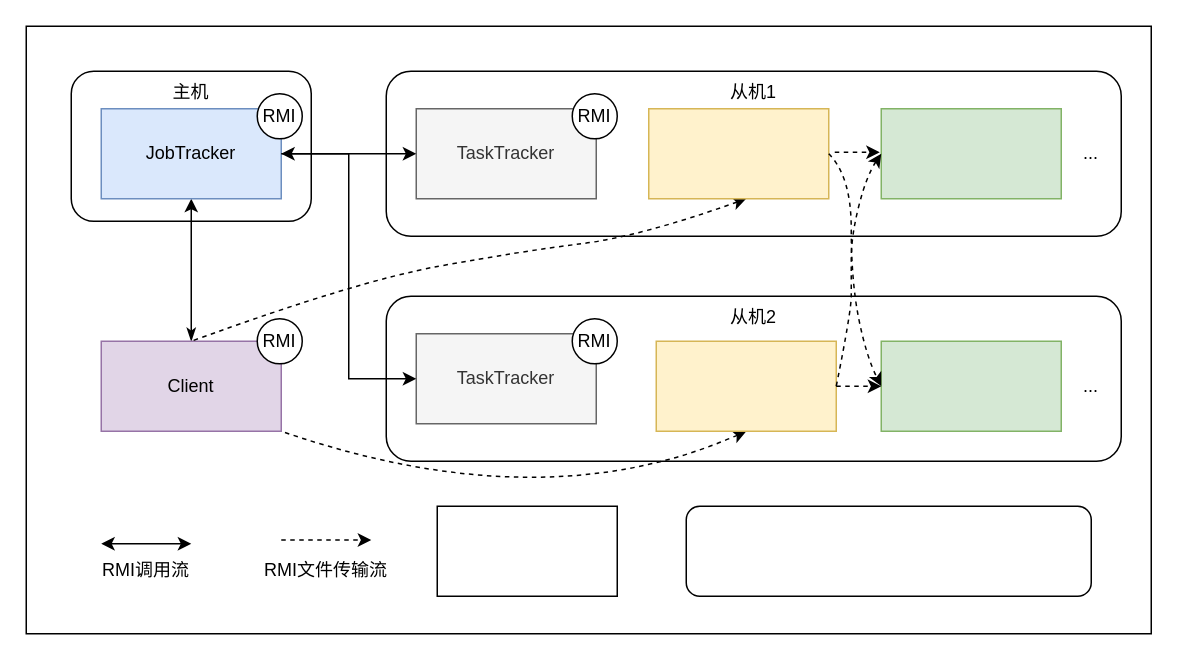
Some shapes in this 1178 by 660 pixel diagram are drawn without their labels. The centre of each missing label's shape, as x and y in pixels:
"Worker(Mapper 0)" goes at pixel 738 153.
"Worker(Mapper 1)" goes at pixel 745 385.
"Worker(Reducer 0)" goes at pixel 970 153.
"Worker(Reducer 1)" goes at pixel 970 385.
"方框表示进程" goes at pixel 526 550.
"椭圆框表示节点" goes at pixel 888 550.
